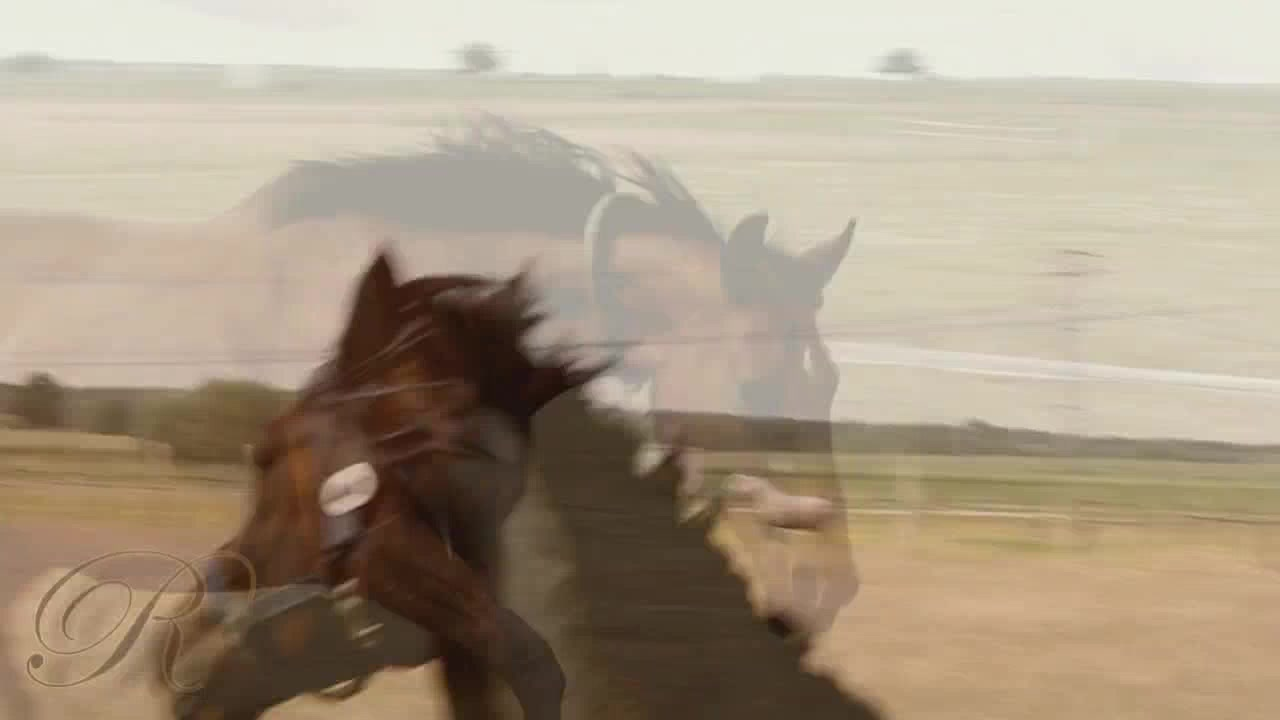horse: (1, 110, 862, 664), (149, 247, 895, 720)
